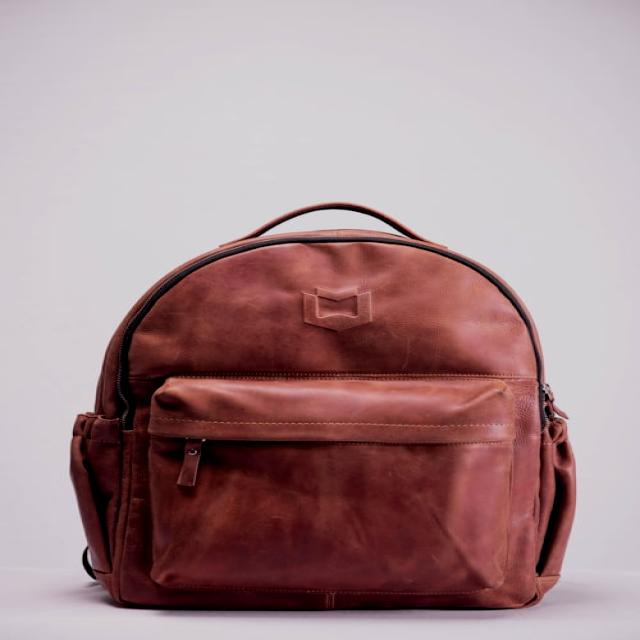backpack: (69, 202, 579, 612)
